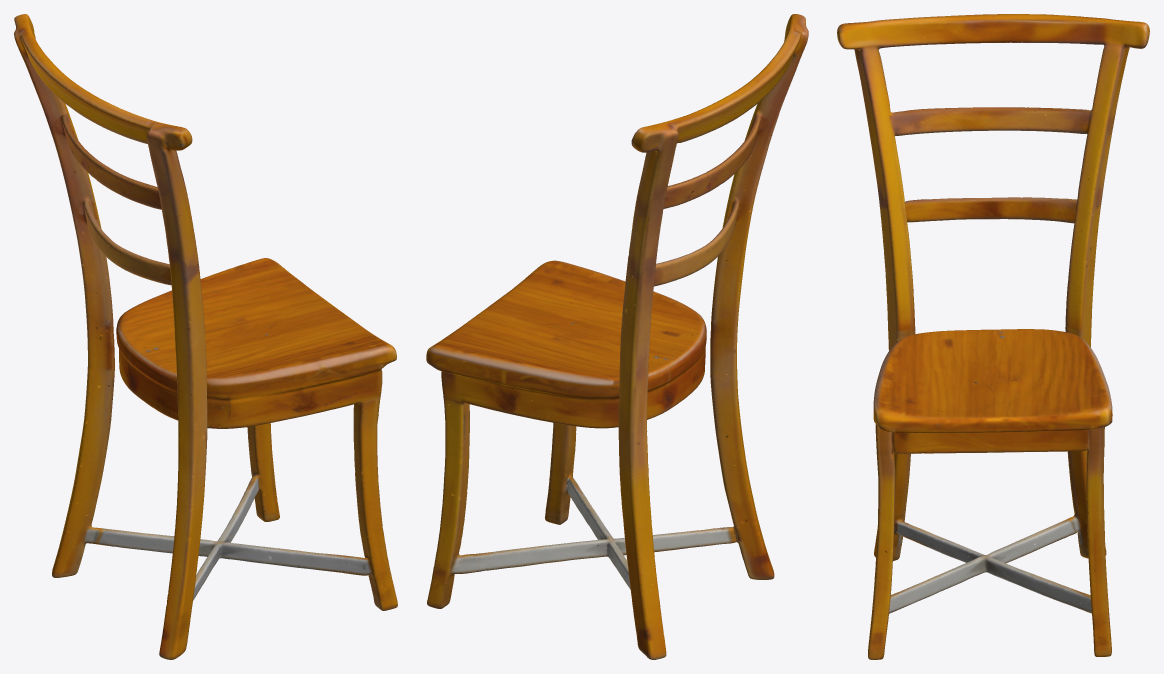
File: Ladder_Back_Wooden_Chair.glb
3 views of the same model, side by side, from view 1: azimuth 30°, elevation 25°; view 2: azimuth 150°, elevation 25°; view 3: azimuth 270°, elevation 25° (orthographic). The views are drawn at different scales.
Bounding box in the file's own units: 1.05 × 2 × 1.07.
Materials: 1 (1 with a texture image).
